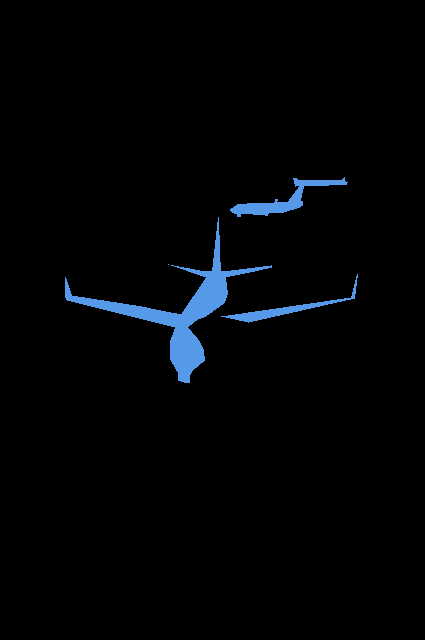Airplane: (65, 217, 357, 383), (230, 186, 304, 217), (293, 177, 347, 186)
